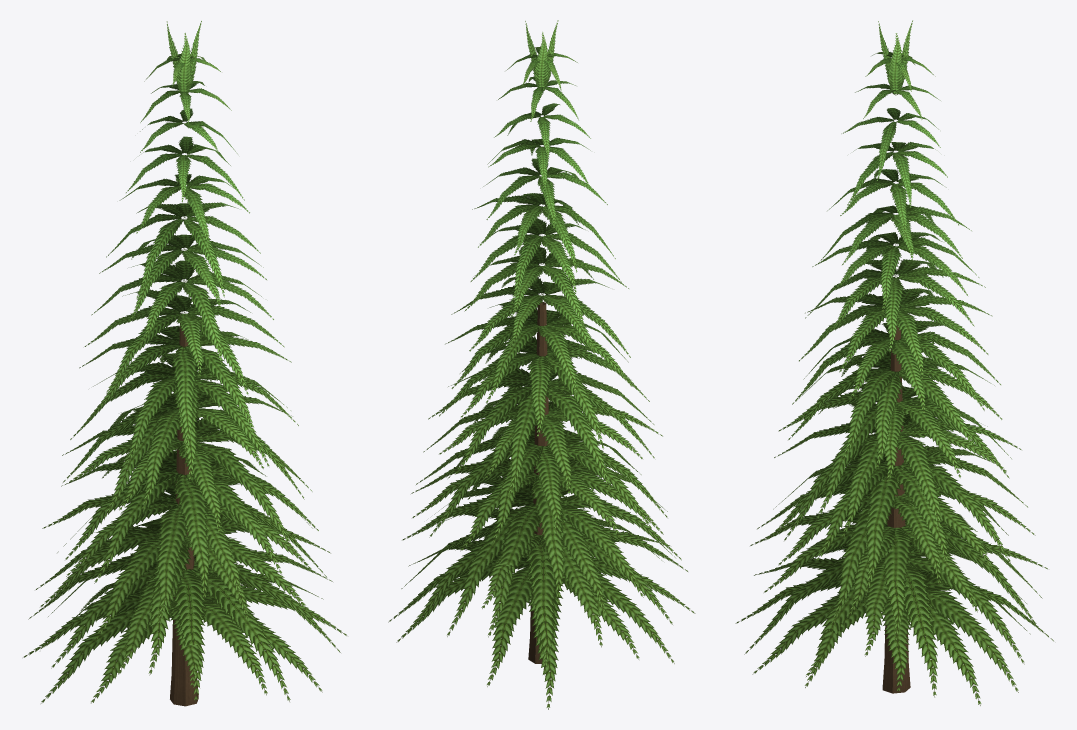
File: fir2_b.glb
3 renders of one model, left to right at view 1: azimuth 30°, elevation 25°; view 2: azimuth 150°, elevation 25°; view 3: azimuth 270°, elevation 25°, orthographic. The views are drawn at different scales.
Parts seen in each view (by area): view 1: fir2_b; view 2: fir2_b; view 3: fir2_b.
Part boxes in pixels (x1,y1,x2,y2): fir2_b: (23,21,346,706); fir2_b: (388,20,695,709); fir2_b: (735,20,1053,705).
Size of the model in its own units: 3.64 by 8.04 by 3.64.
Materials: 2 (2 with a texture image).
